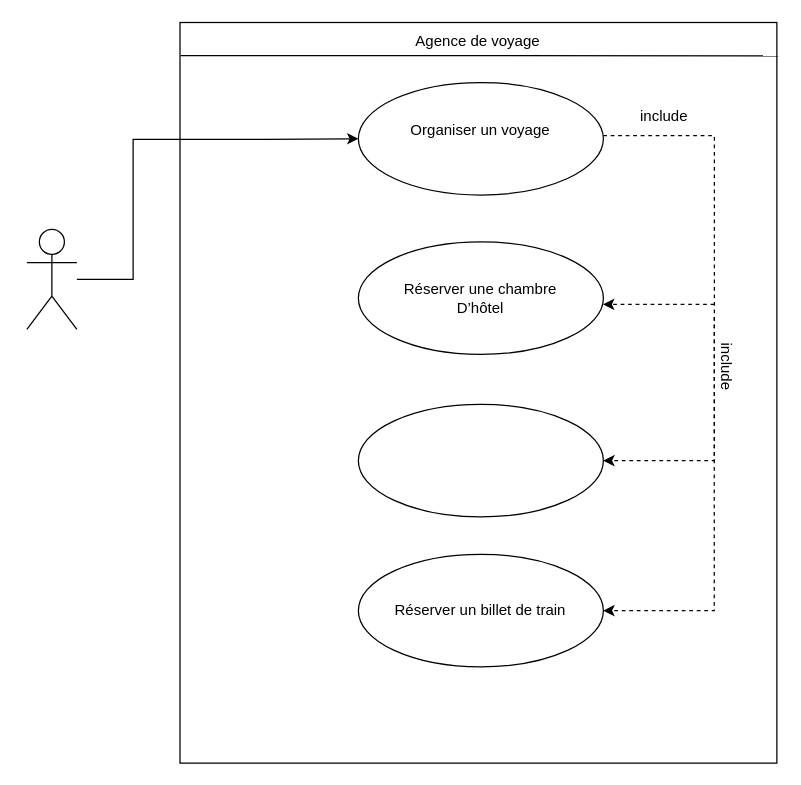
The diagram is 801 pixels wide and 785 high, and some of its shapes have lost their labels. Each missing label, with the centre of its shape:
Agent de voyage: the point at 51,278
Réserver un taxi: the point at 480,460
